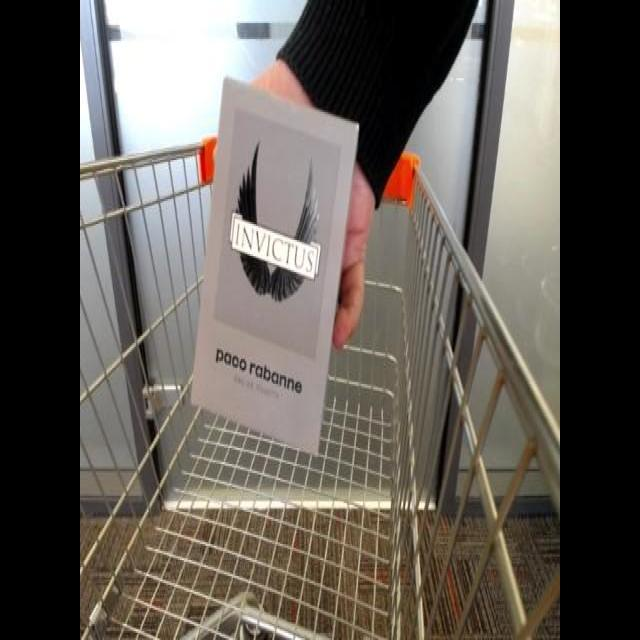Paco Rabanne: (186, 65, 366, 456)
